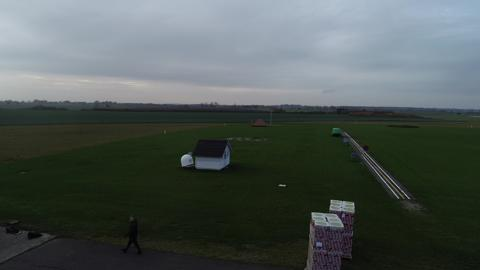RockwoolPallet: (330, 195, 356, 257)
